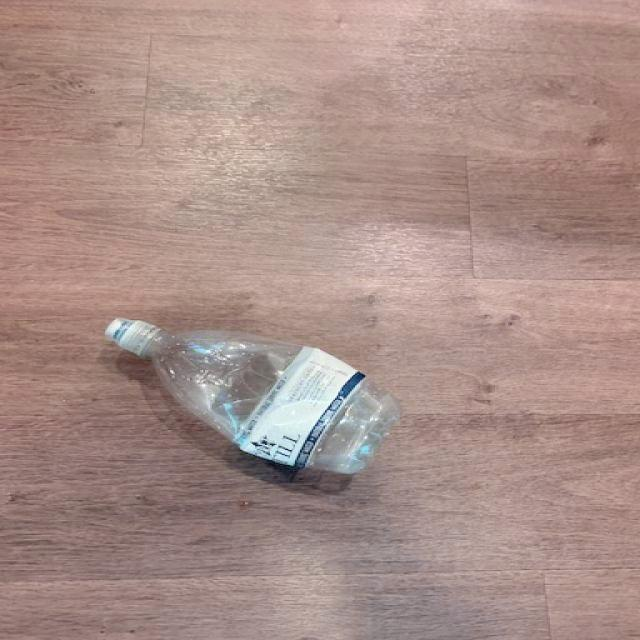bottle: (105, 317, 401, 474)
